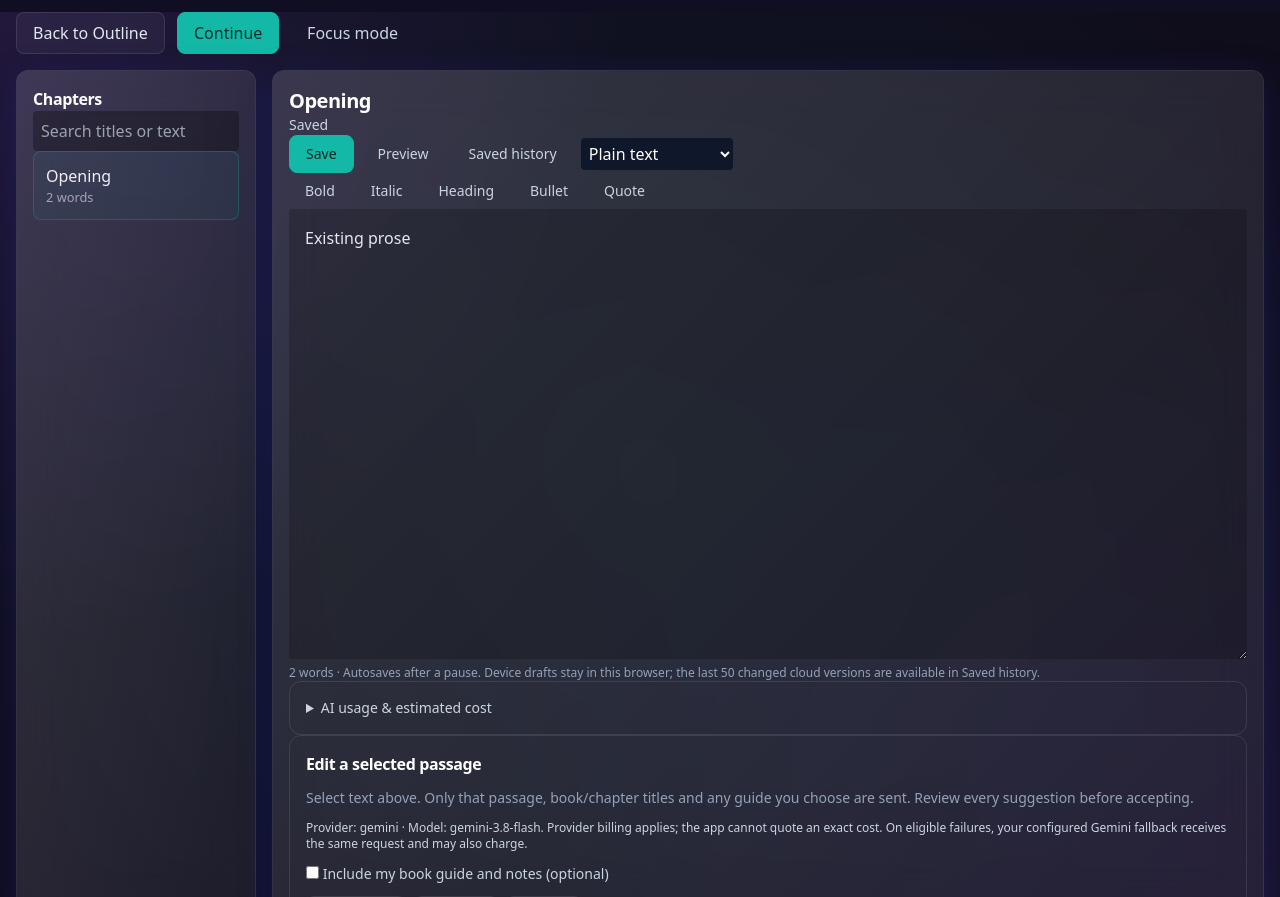
does not auto-retry failed saves until the author edits or retries
This screenshot has width=1280, height=897.
Replace the text in the text box named "Chapter content" with "Keep me": (768,434) top-left (289, 209), bottom-right (1247, 659)
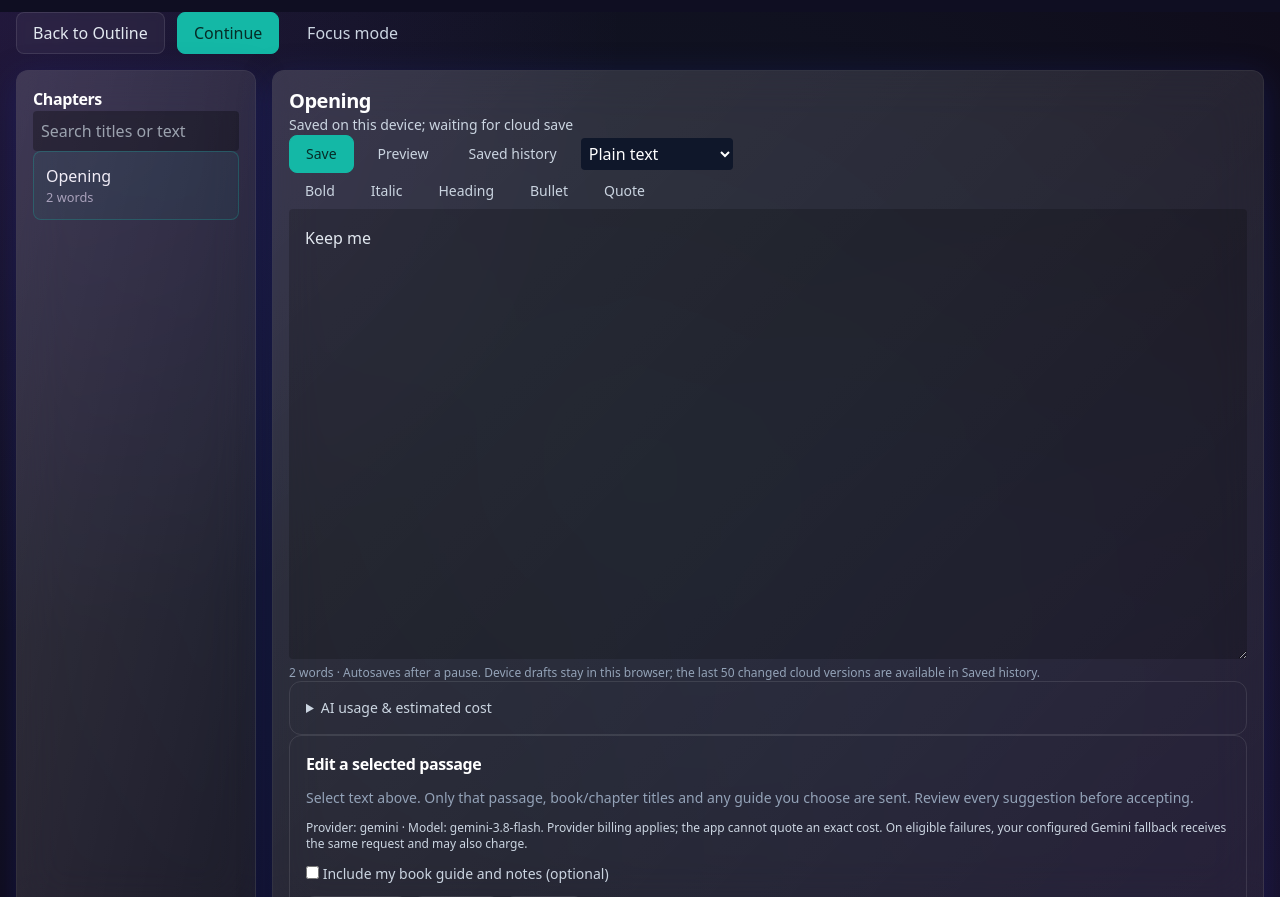
Click the button "Save": (321,154) top-left (289, 135), bottom-right (354, 173)
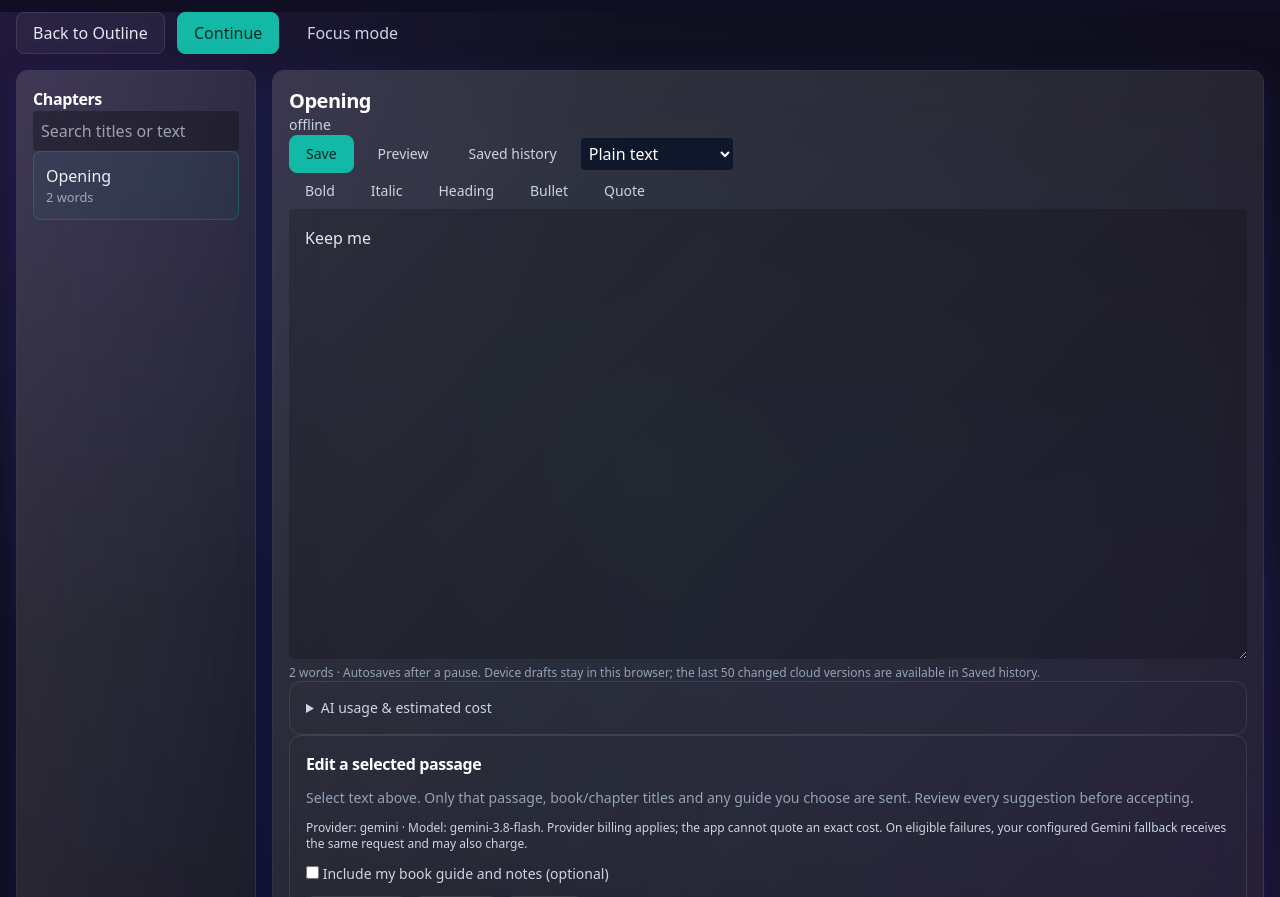
Expected: the text "offline" is shown, top-left (289, 115), bottom-right (331, 134)
